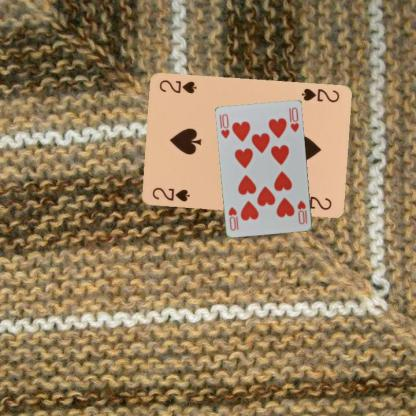10h: (294, 198, 309, 226), (219, 111, 231, 140)
2s: (149, 185, 191, 203), (299, 86, 340, 104)
